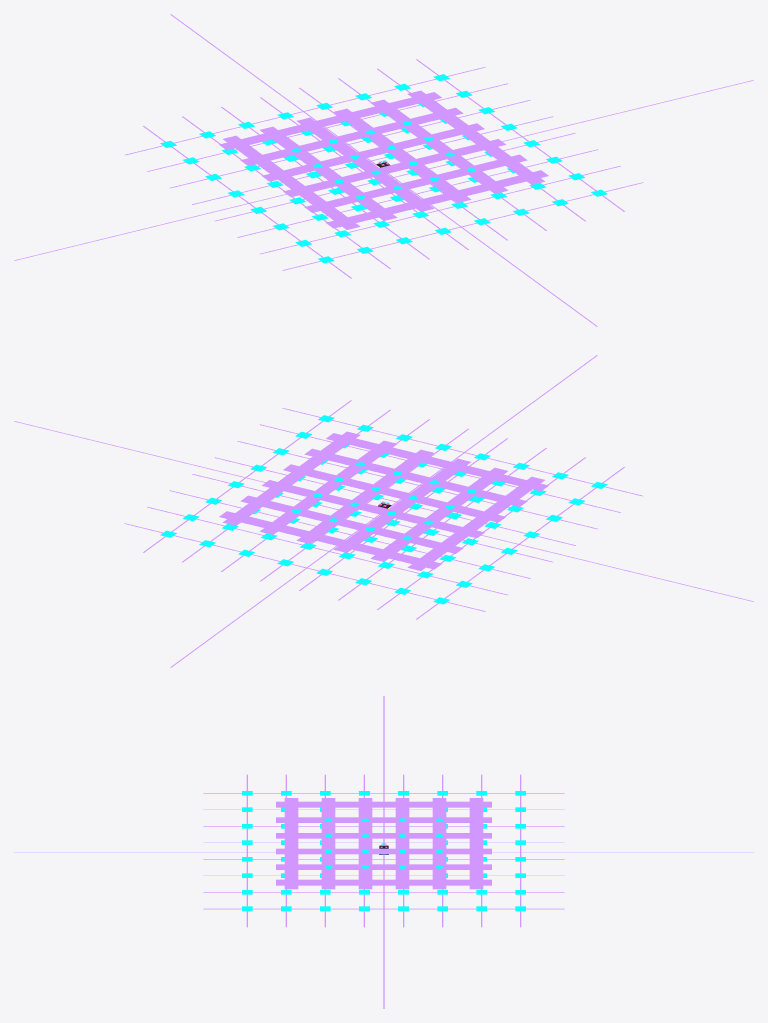
File: apux_model.glb
The picture shows the model from 3 angles, top to bottom: view 1: azimuth 30°, elevation 25°; view 2: azimuth 150°, elevation 25°; view 3: azimuth 270°, elevation 25°; orthographic projection. The views are drawn at different scales.
Visible parts, largest first — view 1: trace_h_5, trace_v_4, trace_h_0, trace_h_4, trace_h_2, trace_h_3, trace_v_5, trace_v_1, trace_v_2, trace_v_0, trace_h_1, trace_v_3; view 2: trace_h_0, trace_h_3, trace_v_1, trace_h_4, trace_h_5, trace_v_4, trace_v_2, trace_h_2, trace_v_3, trace_v_0, trace_v_5, trace_h_1; view 3: trace_h_5, trace_h_3, trace_h_0, trace_v_0, trace_v_5, trace_v_4, trace_v_2, trace_v_3, trace_v_1, trace_h_4, trace_h_1, trace_h_2 (+1 smaller).
Part boxes in pixels (x1=…): trace_h_5: x1=407, y1=90, x2=544, y2=184; trace_v_4: x1=240, y1=107, x2=463, y2=165; trace_h_0: x1=223, y1=135, x2=360, y2=229; trace_h_4: x1=371, y1=99, x2=507, y2=193; trace_h_2: x1=297, y1=117, x2=434, y2=211; trace_h_3: x1=334, y1=108, x2=470, y2=202; trace_v_5: x1=219, y1=92, x2=441, y2=150; trace_v_1: x1=304, y1=154, x2=527, y2=212; trace_v_2: x1=283, y1=139, x2=505, y2=197; trace_v_0: x1=326, y1=170, x2=548, y2=228; trace_h_1: x1=260, y1=126, x2=397, y2=220; trace_v_3: x1=262, y1=123, x2=484, y2=181; trace_h_0: x1=407, y1=476, x2=544, y2=570; trace_h_3: x1=297, y1=449, x2=433, y2=543; trace_v_1: x1=304, y1=448, x2=527, y2=506; trace_h_4: x1=260, y1=440, x2=396, y2=534; trace_h_5: x1=223, y1=431, x2=360, y2=525; trace_v_4: x1=240, y1=495, x2=463, y2=553; trace_v_2: x1=283, y1=464, x2=505, y2=522; trace_h_2: x1=333, y1=458, x2=470, y2=552; trace_v_3: x1=262, y1=480, x2=484, y2=538; trace_v_0: x1=326, y1=433, x2=548, y2=491; trace_v_5: x1=219, y1=511, x2=441, y2=569; trace_h_1: x1=370, y1=467, x2=507, y2=561; trace_h_5: x1=276, y1=879, x2=491, y2=885; trace_h_3: x1=276, y1=848, x2=491, y2=854; trace_h_0: x1=276, y1=801, x2=491, y2=807; trace_v_0: x1=284, y1=798, x2=298, y2=889; trace_v_5: x1=469, y1=798, x2=483, y2=889; trace_v_4: x1=432, y1=798, x2=446, y2=889; trace_v_2: x1=358, y1=798, x2=372, y2=889; trace_v_3: x1=395, y1=798, x2=409, y2=889; trace_v_1: x1=321, y1=798, x2=335, y2=889; trace_h_4: x1=276, y1=864, x2=491, y2=869; trace_h_1: x1=276, y1=817, x2=491, y2=822; trace_h_2: x1=276, y1=833, x2=491, y2=838.
Size of the model in its own units: 2880 by 39.61 by 2880.
